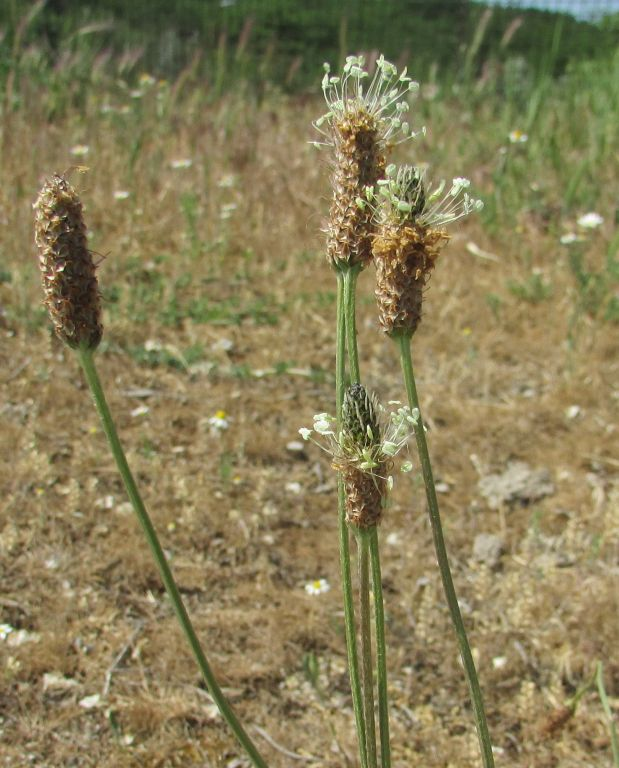buckhorn plantain: (29, 75, 522, 768)
